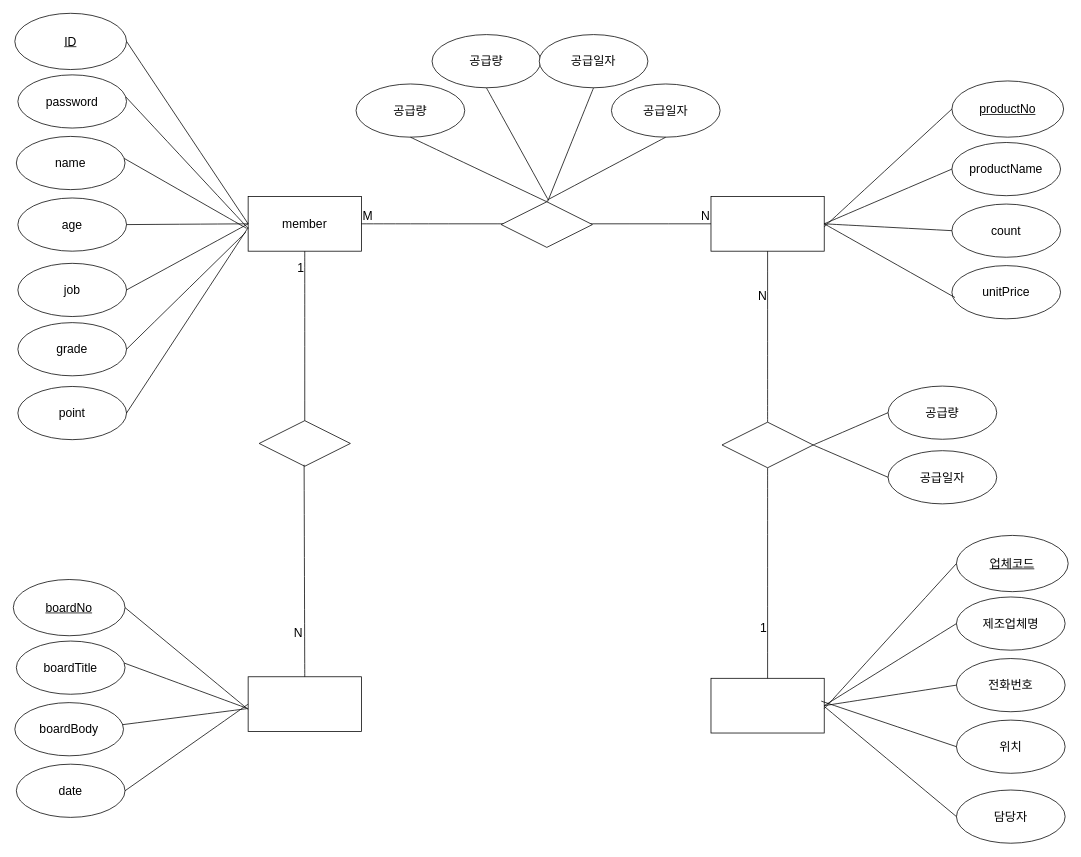
The diagram is 1081 pixels wide and 857 high, and some of its shapes have lost their labels. The centre of each missing label's shape, as x and y in pixels:
board: the point at 304,704
order: the point at 546,224
product: the point at 767,223
공급: the point at 767,444
작성: the point at 304,443
제조업체: the point at 767,705
